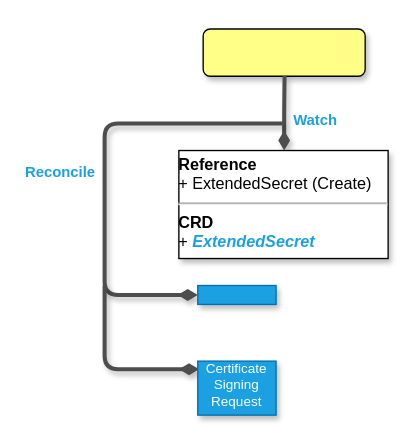
Image size: 420x448. Some labels were removed from this diagram. Each missing label, with the centre of its shape:
"ExtendedSecret Controller" goes at (x=284, y=54).
"Secret" goes at (x=237, y=296).
